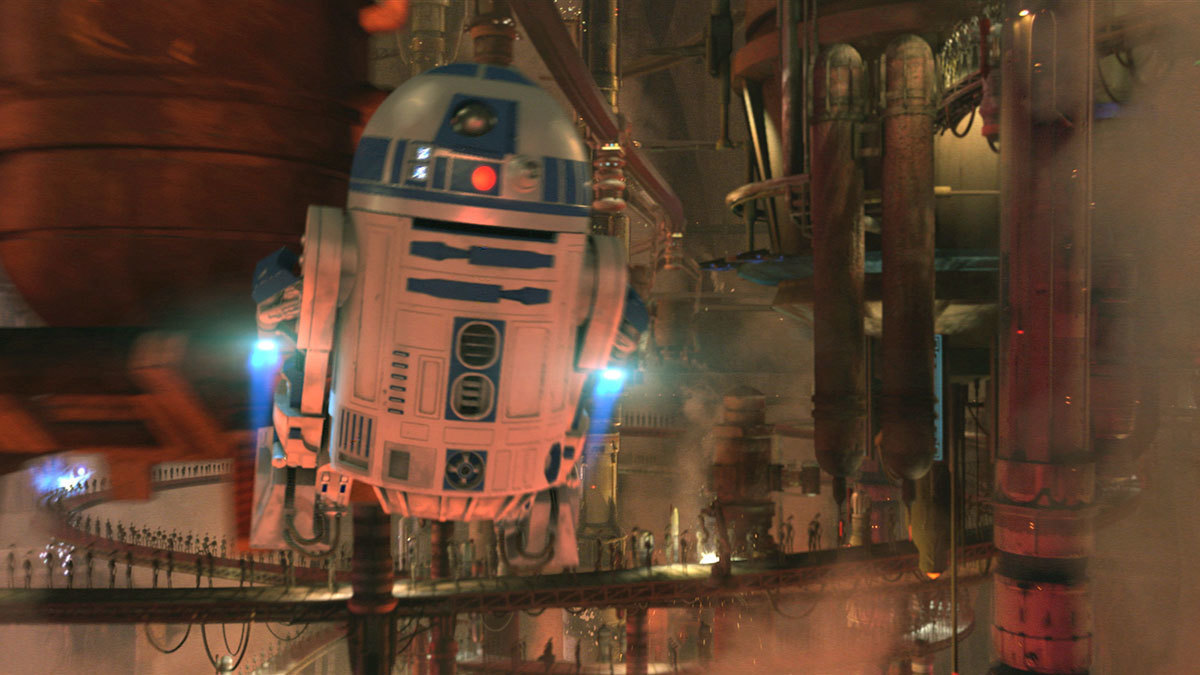r2d2: (250, 64, 649, 571)
